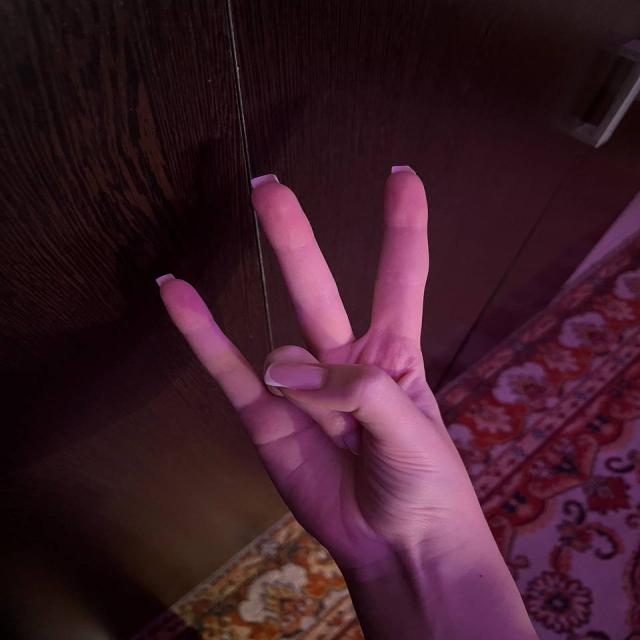n: (122, 133, 527, 512)
